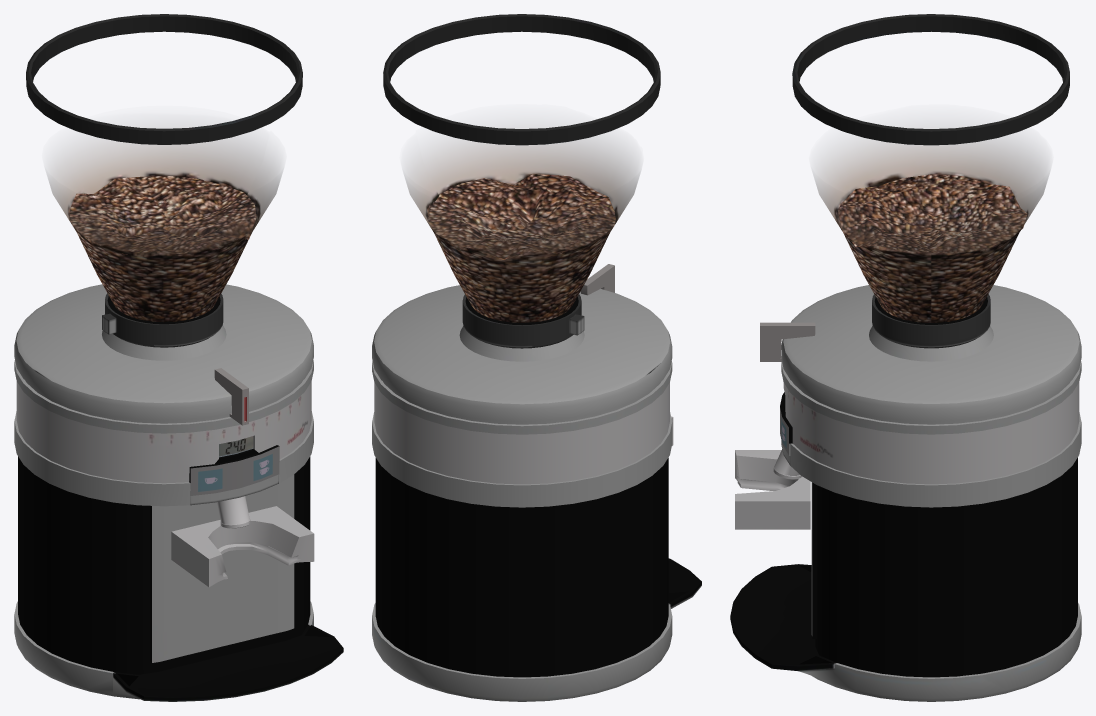
The model's file is grinder.glb.
3 renders of one model, left to right at view 1: azimuth 30°, elevation 25°; view 2: azimuth 150°, elevation 25°; view 3: azimuth 270°, elevation 25°, orthographic.
Parts seen in each view (by area): view 1: beans_1_Mat_0; view 2: beans_1_Mat_0; view 3: beans_1_Mat_0.
Part boxes in pixels (bbox=[...]): beans_1_Mat_0: bbox=[14, 14, 343, 701]; beans_1_Mat_0: bbox=[372, 14, 701, 701]; beans_1_Mat_0: bbox=[730, 14, 1081, 701].
Size of the model in its own units: 1.81 by 3.78 by 2.11.
Materials: 1 (1 with a texture image).
